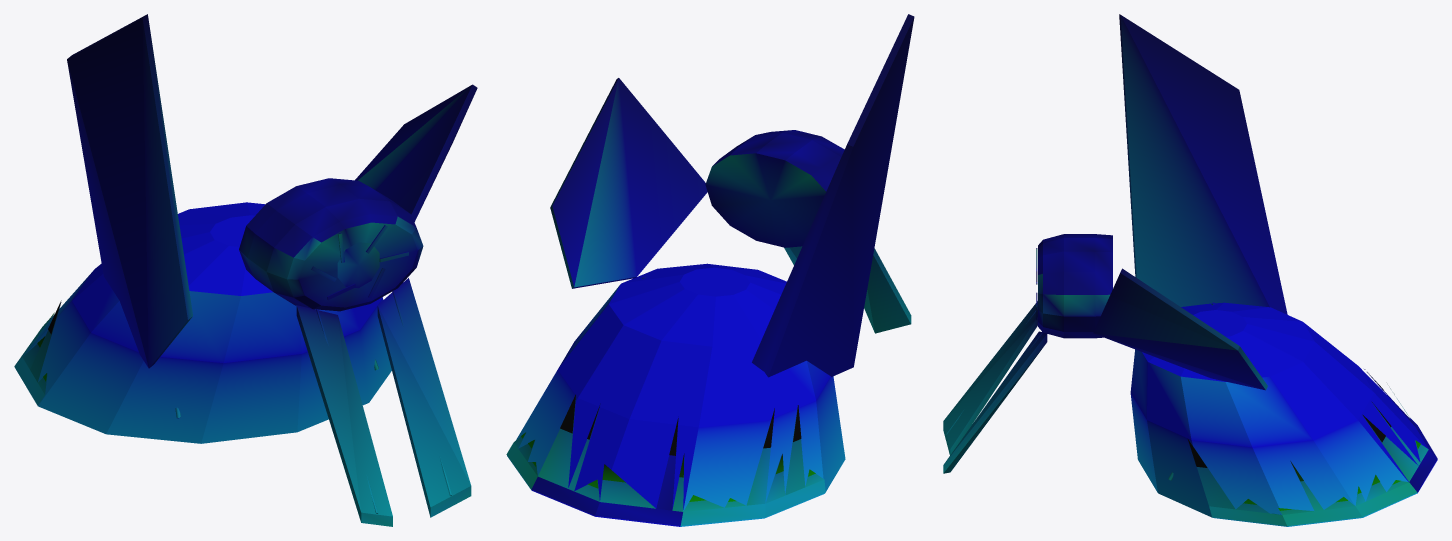
Rendered from crashtail.glb.
The picture shows the model from 3 angles, left to right: view 1: azimuth 30°, elevation 25°; view 2: azimuth 150°, elevation 25°; view 3: azimuth 270°, elevation 25°; orthographic projection. The views are drawn at different scales.
Parts seen in each view (by area): view 1: lod0; view 2: lod0; view 3: lod0.
Part boxes in pixels (box(x1,y1,x2,y2)): lod0: box(14, 14, 477, 526); lod0: box(506, 14, 914, 526); lod0: box(943, 14, 1437, 526).
Size of what is drawn, in the model's own units: 31.1 by 40.93 by 47.5.
